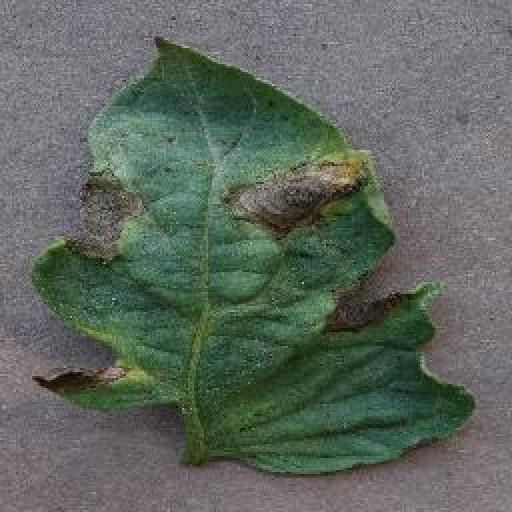Early Blight: (30, 31, 473, 476)
